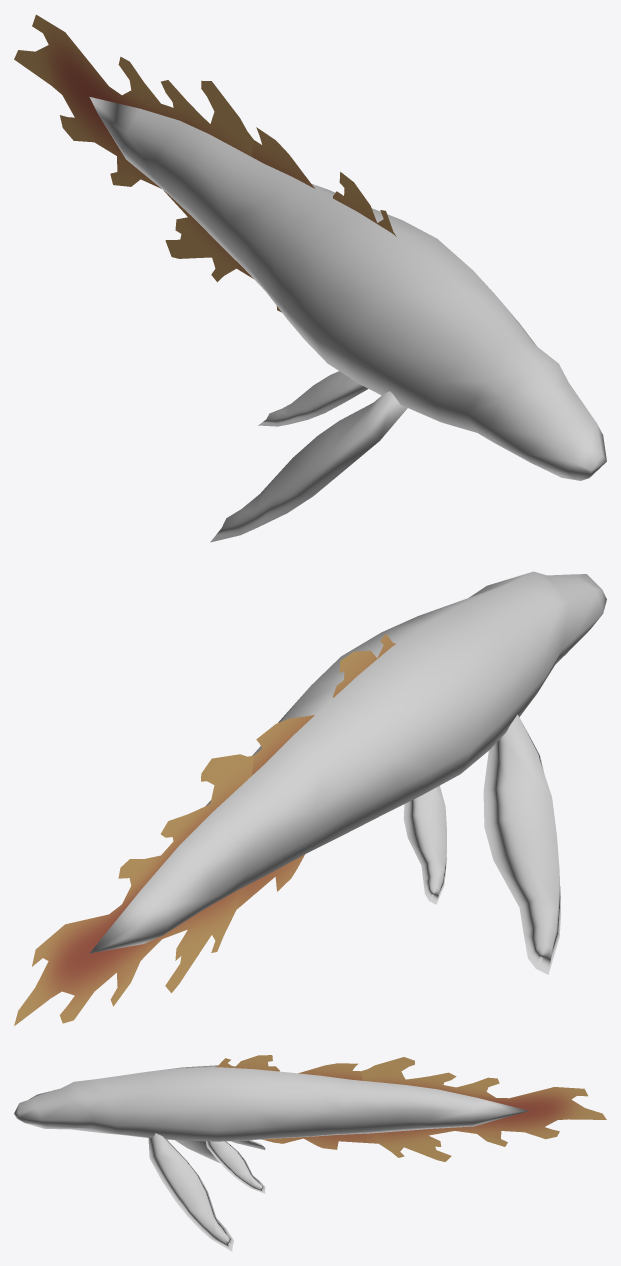
Rendered from Whale01.fbx.
3 renders of one model, top to bottom at view 1: azimuth 30°, elevation 25°; view 2: azimuth 150°, elevation 25°; view 3: azimuth 270°, elevation 25°, orthographic. The views are drawn at different scales.
Parts seen in each view (by area): view 1: whaledragon2; view 2: whaledragon2; view 3: whaledragon2.
Boxes of the visible parts, bbox=[...] form: whaledragon2: bbox=[14, 14, 606, 542]; whaledragon2: bbox=[14, 571, 606, 1025]; whaledragon2: bbox=[14, 1055, 606, 1251].
Size of the model in its own units: 31.4 by 26.7 by 92.86.
